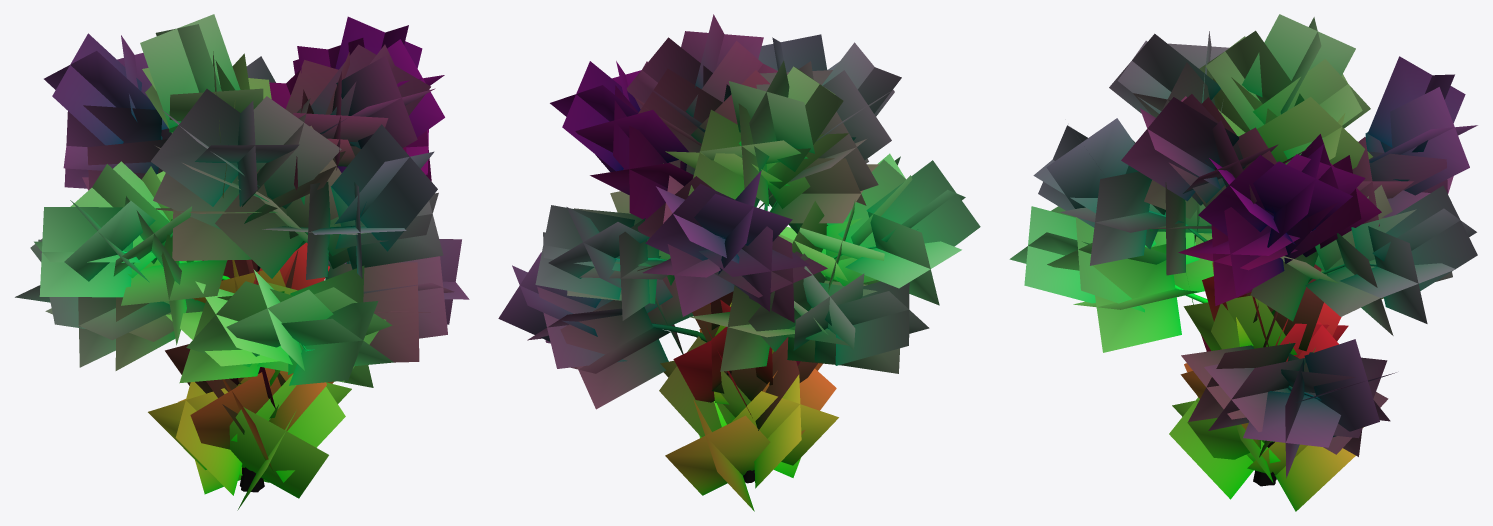
The model's file is M_P3_Tree_9.fbx.
3 views of the same model, side by side, from view 1: azimuth 30°, elevation 25°; view 2: azimuth 150°, elevation 25°; view 3: azimuth 270°, elevation 25° (orthographic). The views are drawn at different scales.
Parts seen in each view (by area): view 1: Tree_9; view 2: Tree_9; view 3: Tree_9.
Boxes of the visible parts, x1,y1,x2,y2 form: Tree_9: (15, 14, 469, 510); Tree_9: (498, 14, 980, 511); Tree_9: (1009, 14, 1477, 511).
Size of the model in its own units: 577 by 603 by 557.
